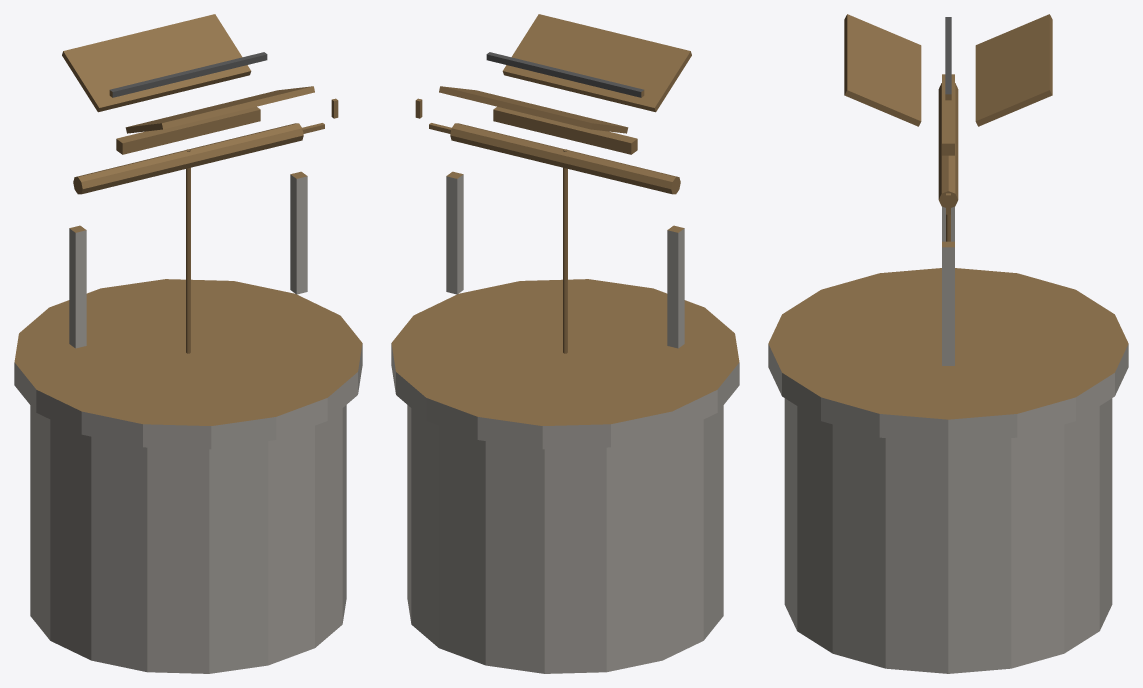
File: well.glb
3 views of the same model, side by side, from view 1: azimuth 30°, elevation 25°; view 2: azimuth 150°, elevation 25°; view 3: azimuth 270°, elevation 25° (orthographic). The views are drawn at different scales.
Visible parts, largest first — view 1: well; view 2: well; view 3: well.
Boxes of the visible parts, x1,y1,x2,y2 form: well: (14,14,362,673); well: (391,14,739,673); well: (768,14,1128,673).
Bounding box in the file's own units: 1.1 × 1.86 × 1.1.
